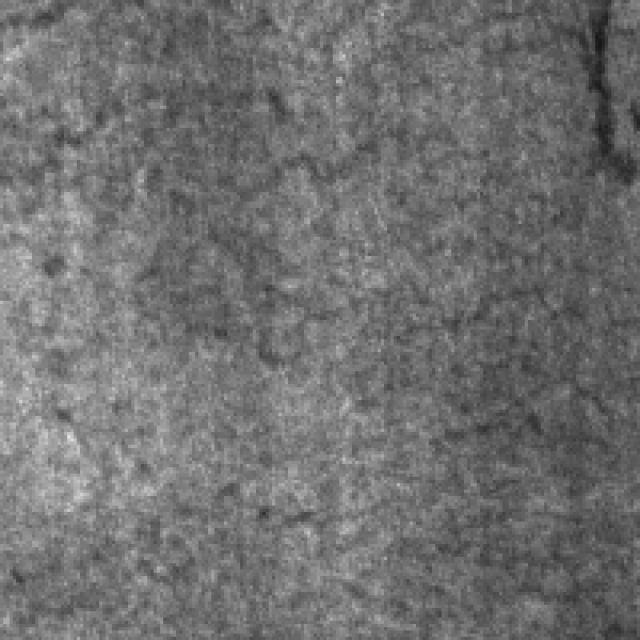crazing: (141, 125, 621, 461)
